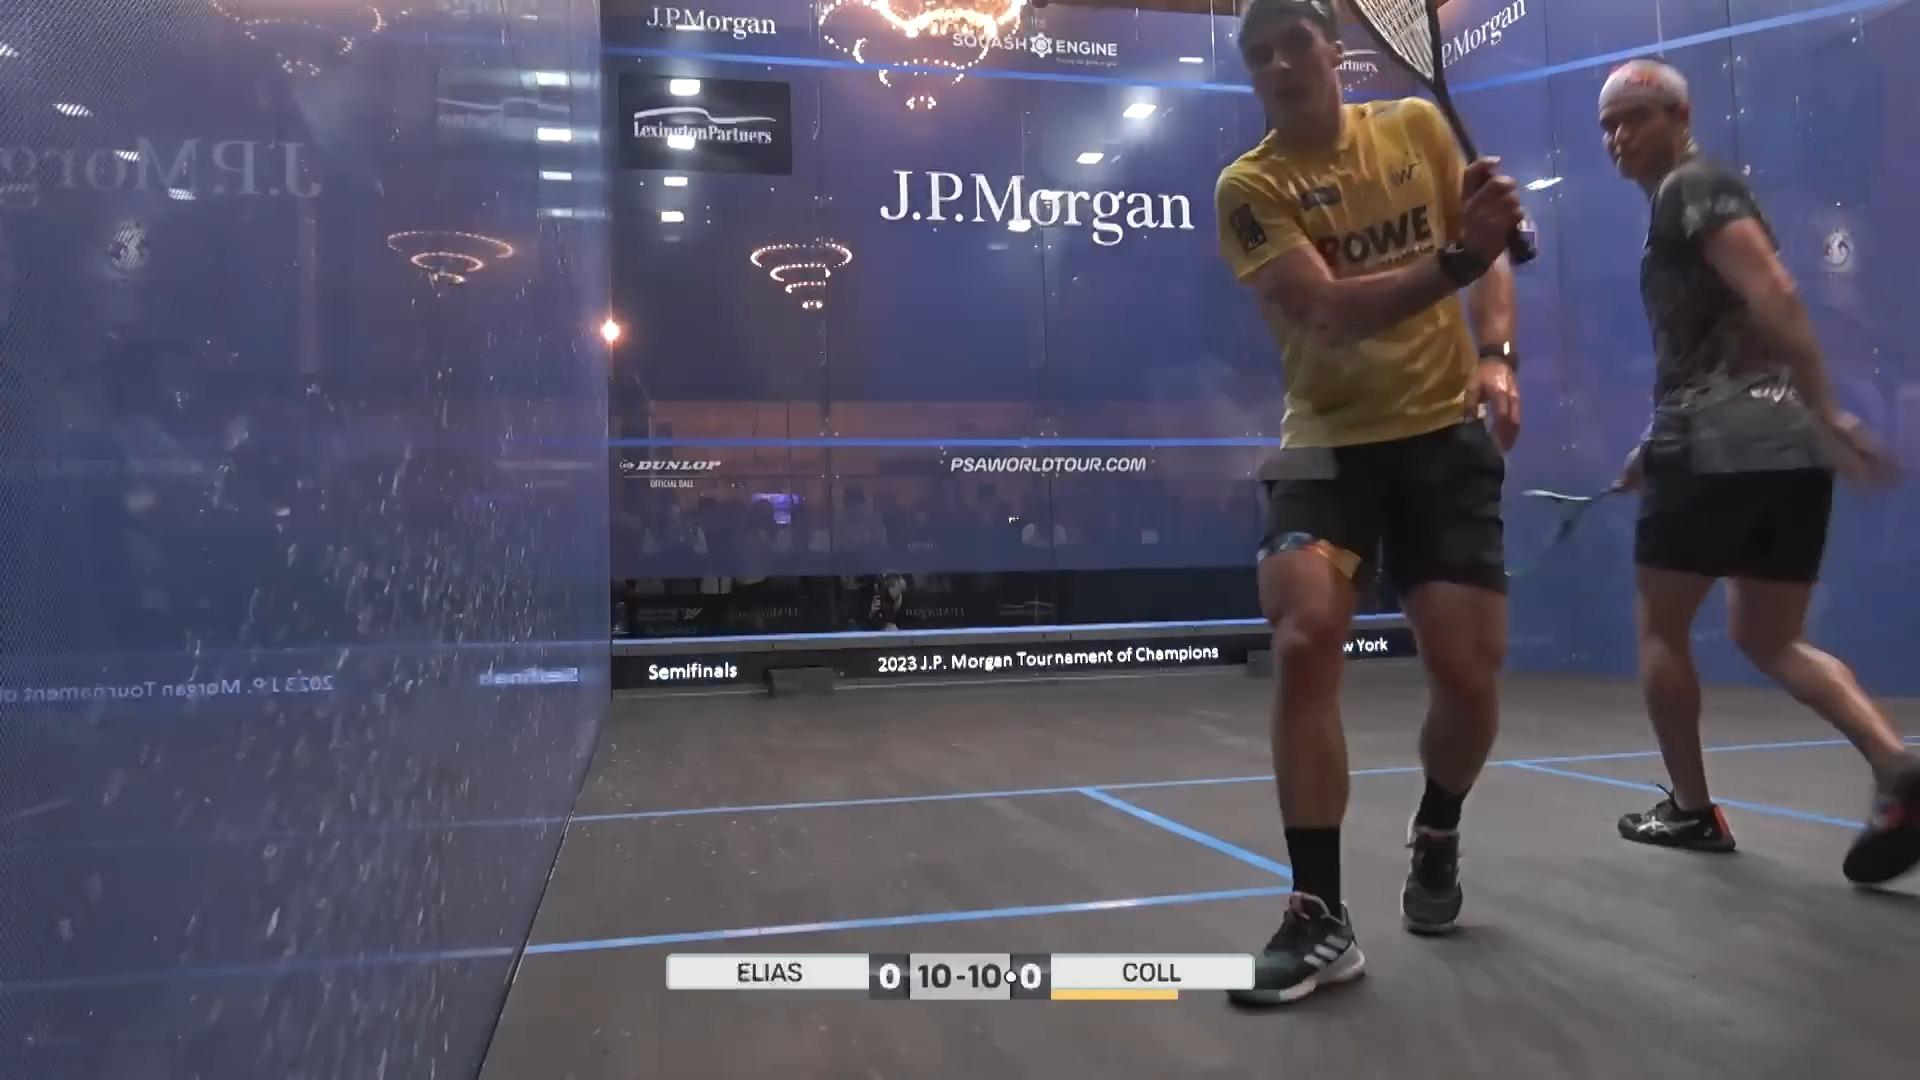Racket: (1350, 0, 1544, 272), (1490, 476, 1618, 582)
